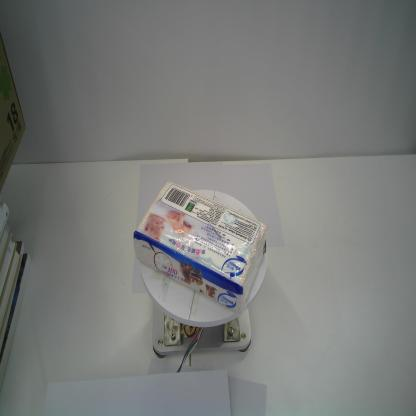Tissue: (130, 177, 269, 314)
